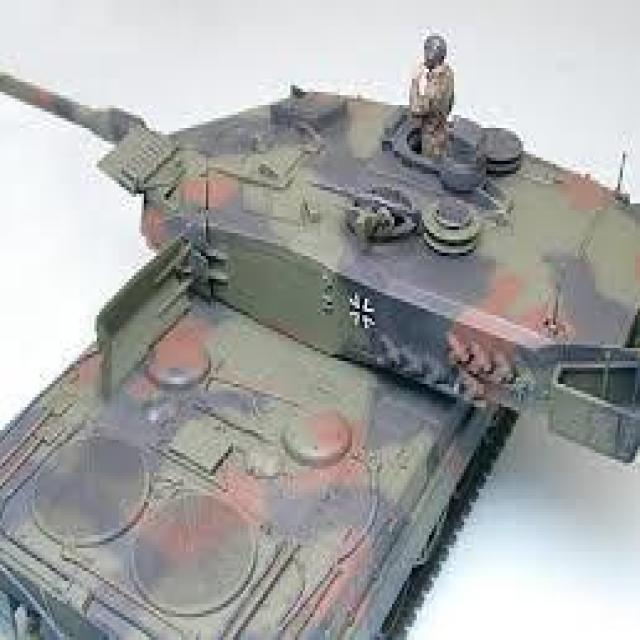Tanks: (23, 52, 540, 620)
